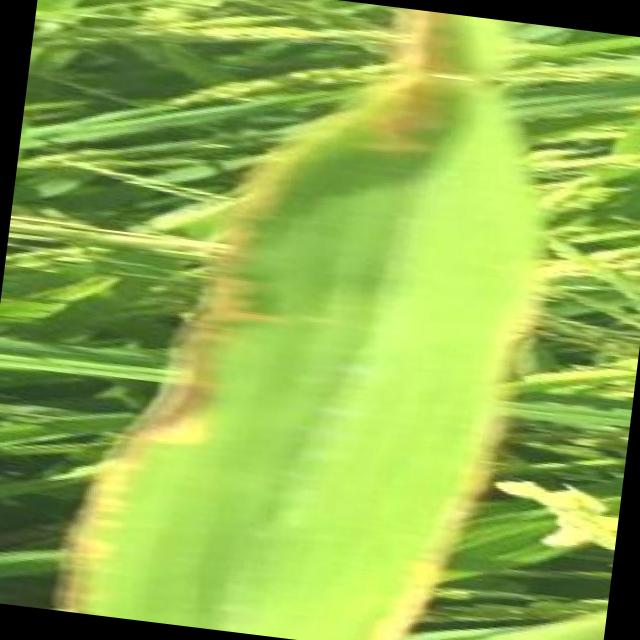Rice_Bacterial_Blight: (127, 2, 559, 640)
